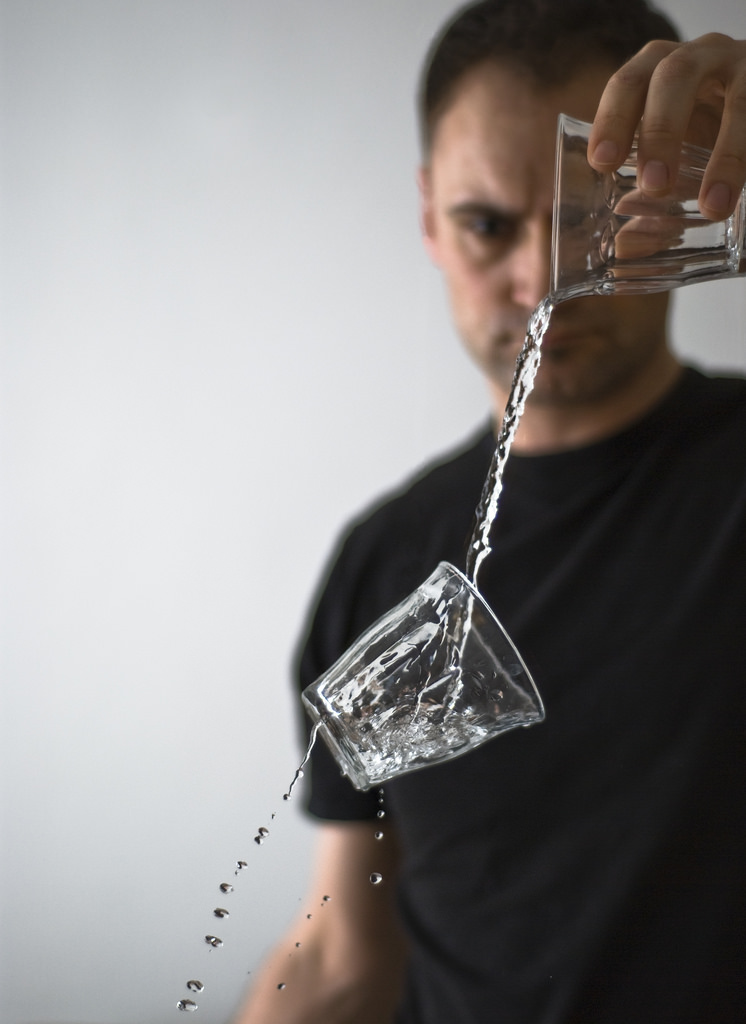glass of water: (276, 571, 568, 798), (501, 106, 746, 299)
